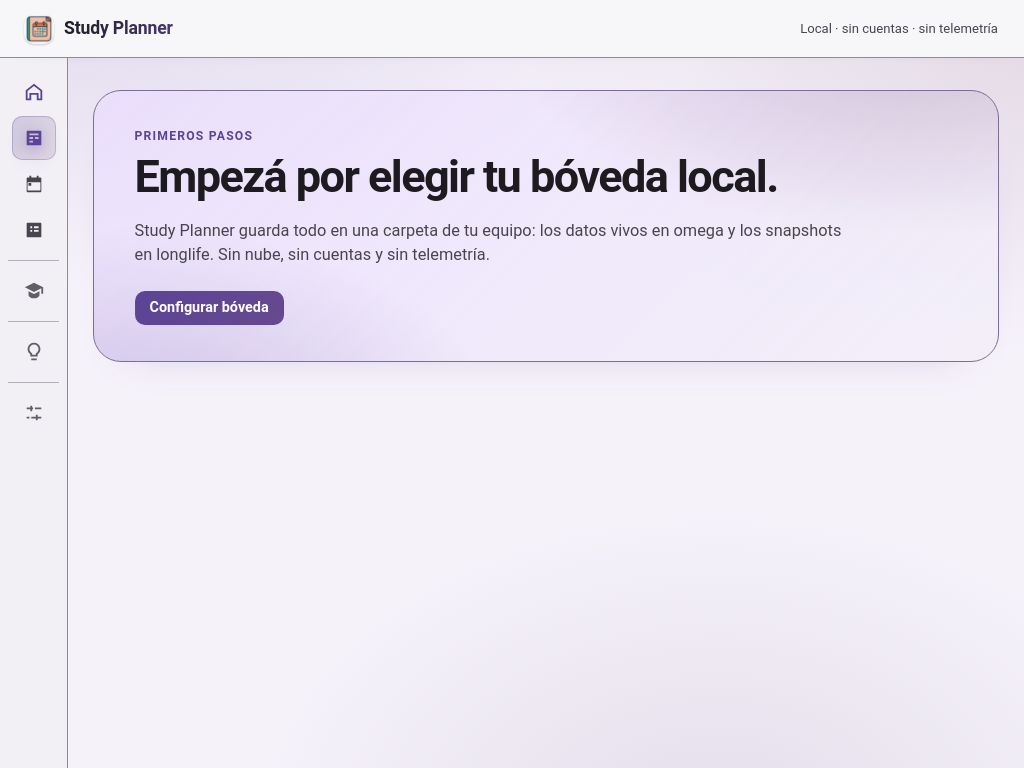
it: App en navegador › cambia de vista al seleccionar una sección
The width and height of the screenshot is (1024, 768).
Click the button named "Expandir sección Academia".
click(34, 291)  # box [10, 269, 58, 313]
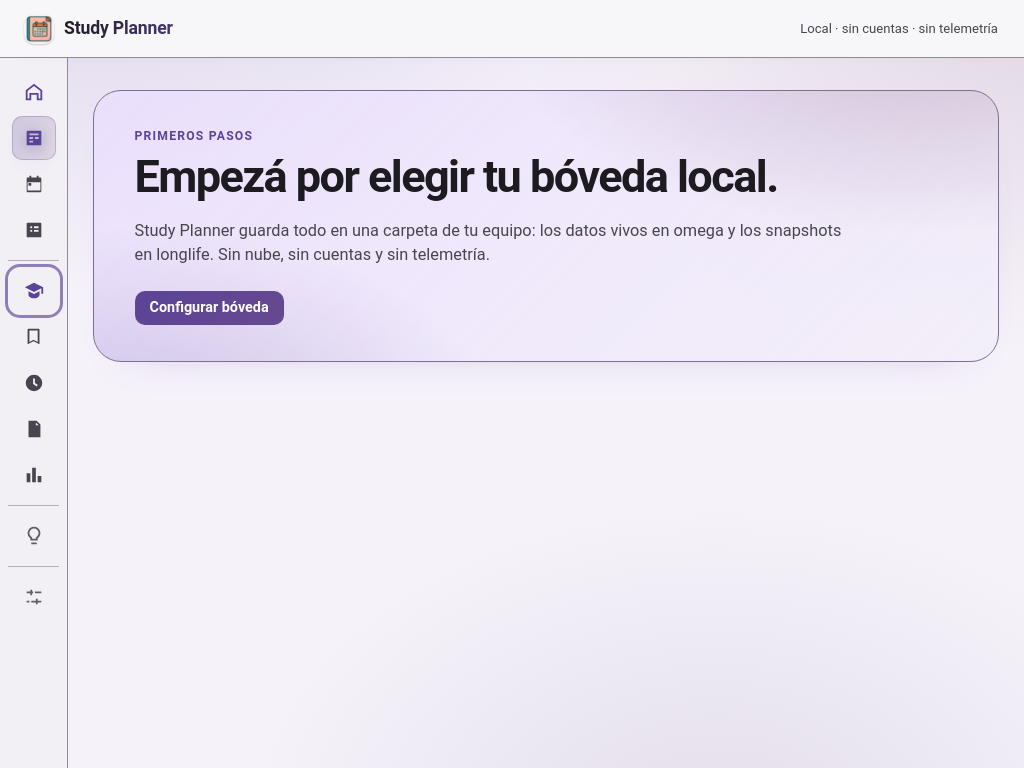
Click the button named "Horario".
click(34, 383)  # box [12, 361, 56, 405]
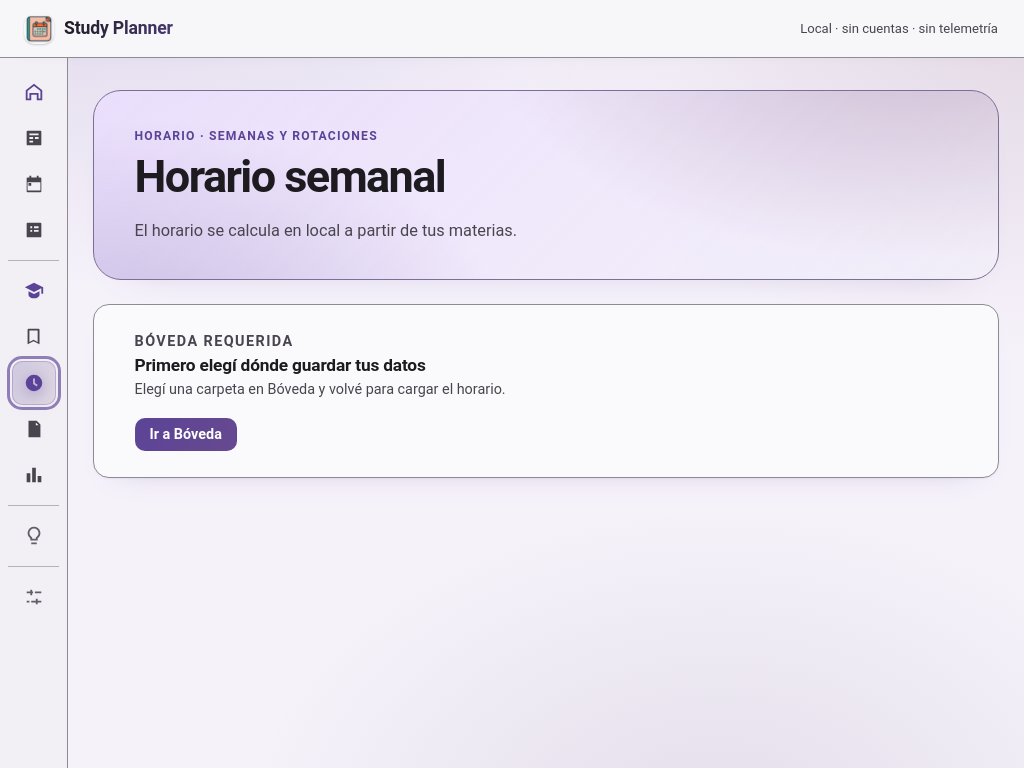
Check: the heading "Horario semanal" is shown, box [134, 150, 445, 203]
Check: the text "Bóveda requerida" is shown, box [134, 331, 294, 353]
Check: the heading "Empezá por elegir" is gone
